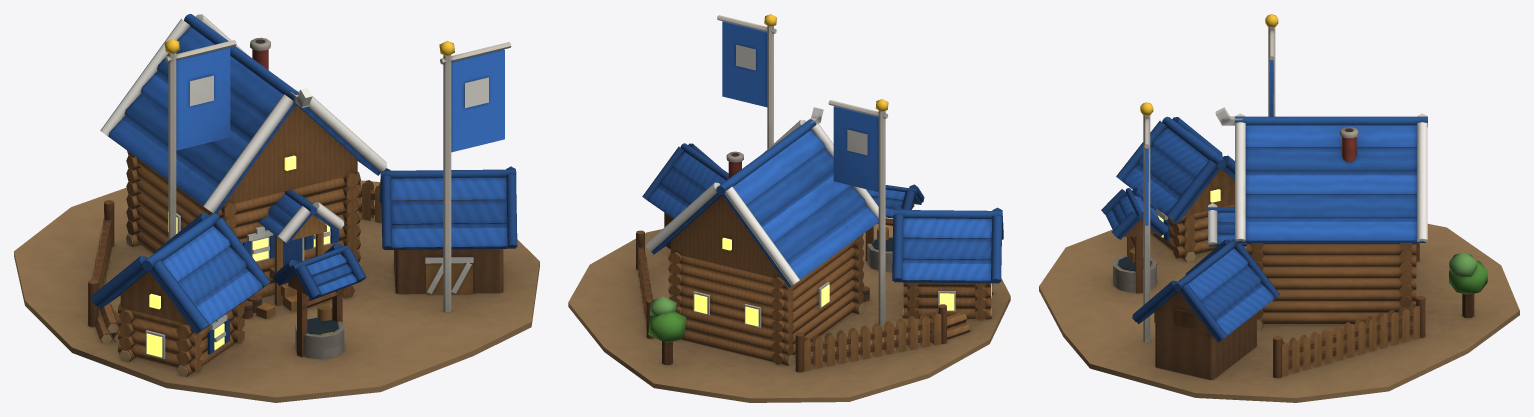
File: residence_dl2_blue.glb
The picture shows the model from 3 angles, left to right: view 1: azimuth 30°, elevation 25°; view 2: azimuth 150°, elevation 25°; view 3: azimuth 270°, elevation 25°; orthographic projection. The views are drawn at different scales.
Parts seen in each view (by area): view 1: residence_dl2_blue; view 2: residence_dl2_blue; view 3: residence_dl2_blue.
Boxes of the visible parts, x1=… form: residence_dl2_blue: x1=14, y1=14, x2=539, y2=402; residence_dl2_blue: x1=568, y1=14, x2=1010, y2=402; residence_dl2_blue: x1=1039, y1=14, x2=1519, y2=402.
Size of the model in its own units: 1.55 by 0.904 by 1.61.
2 materials, 1 textured.
